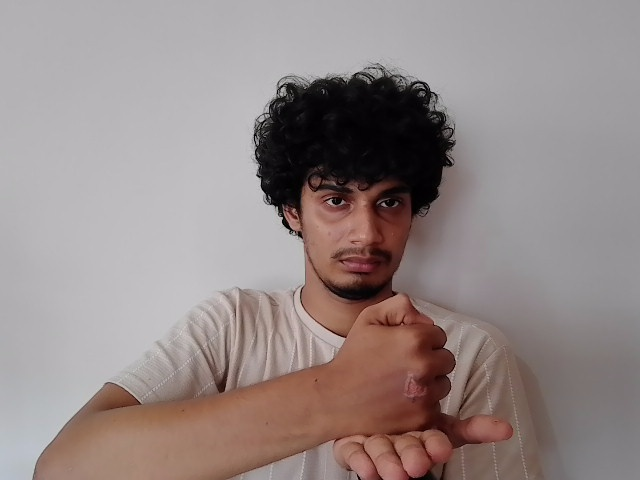help: (309, 292, 513, 480)
